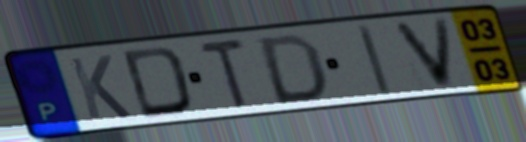D: (119, 44, 197, 121), (256, 31, 329, 107)
I: (353, 22, 396, 98)
K: (65, 53, 136, 122)
T: (195, 36, 252, 112)
V: (388, 14, 458, 91)
